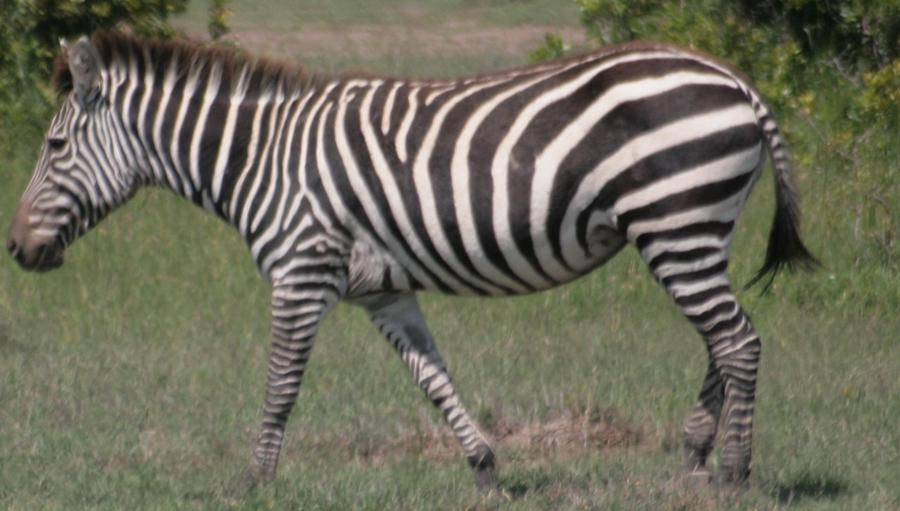zebra_plains: (222, 53, 774, 297)
